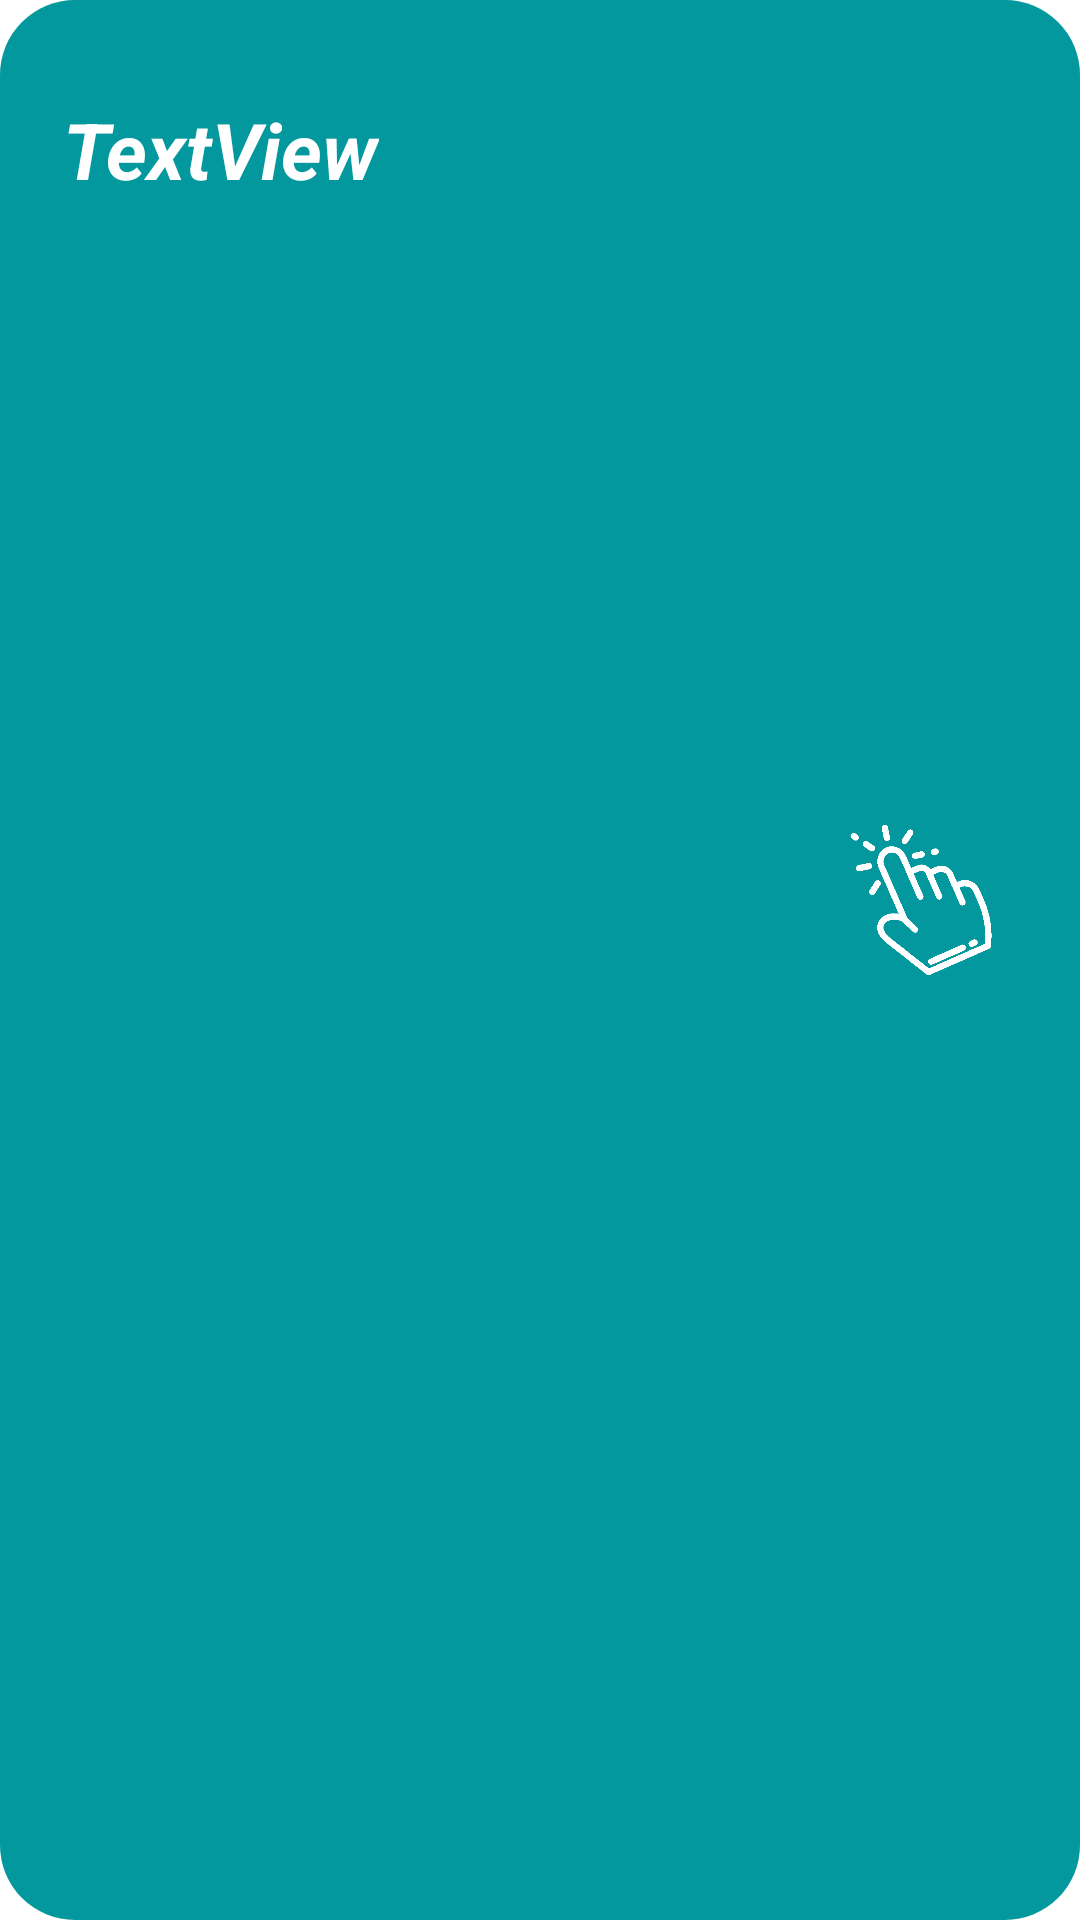

Where icons sit on this 1080px×1920px app screen, as (x1, y1, x2, y2):
pointer: (850, 825, 992, 975)
